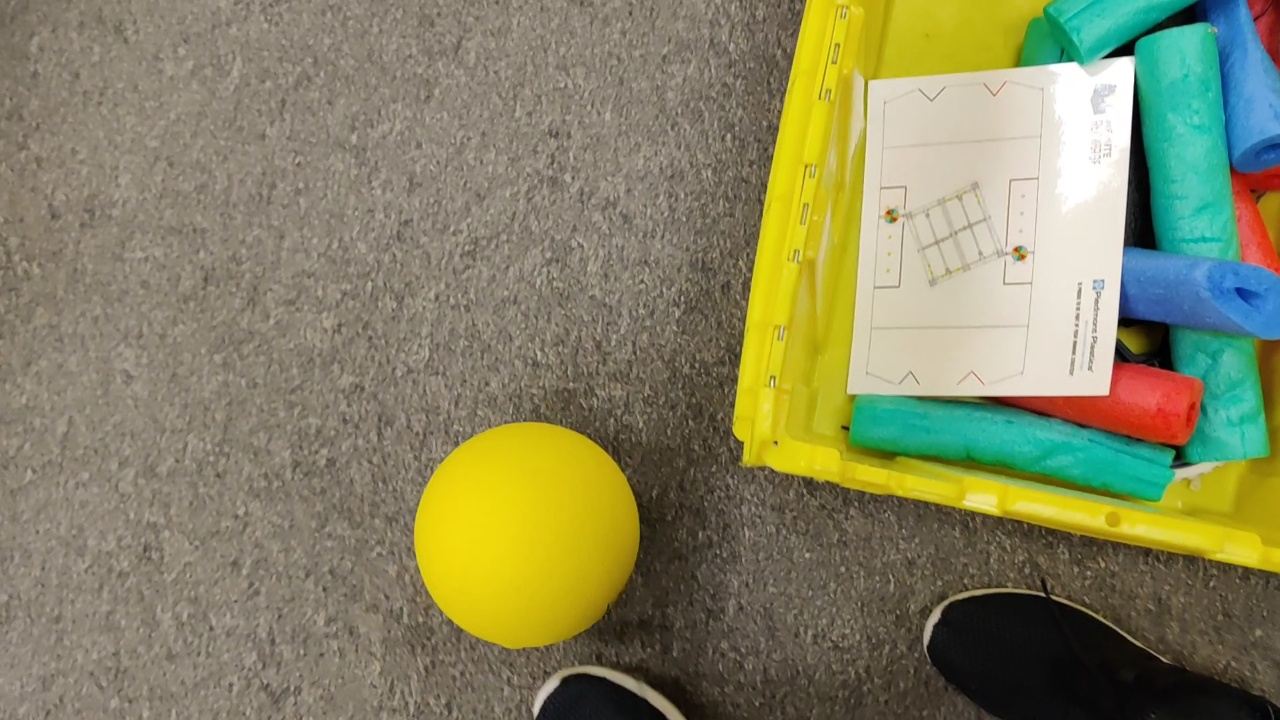Ball: (415, 417, 645, 648)
